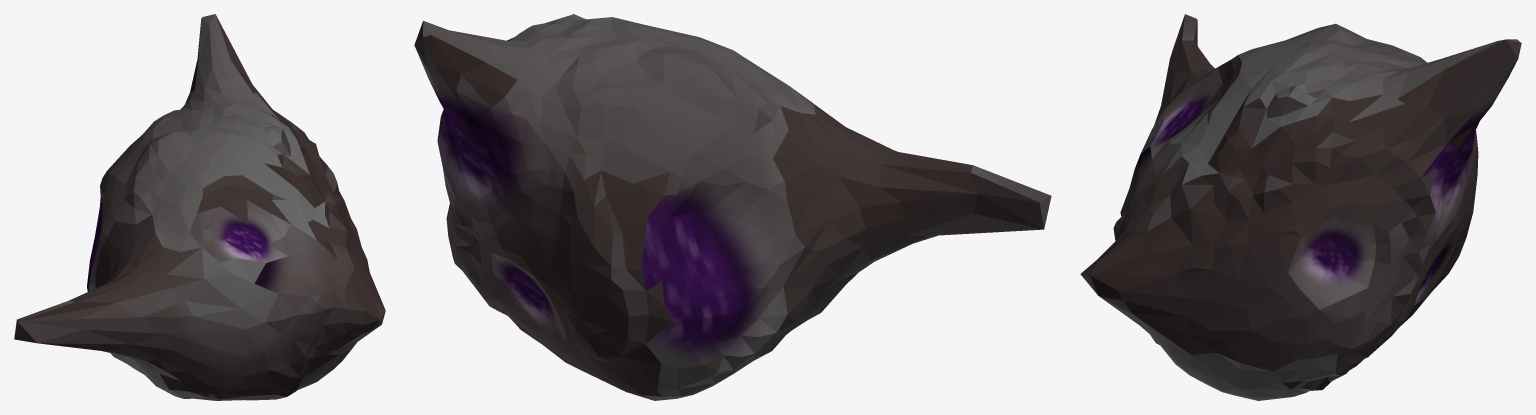
Rendered from Chavk_Home (1).fbx.
3 views of the same model, side by side, from view 1: azimuth 30°, elevation 25°; view 2: azimuth 150°, elevation 25°; view 3: azimuth 270°, elevation 25° (orthographic). The views are drawn at different scales.
Parts seen in each view (by area): view 1: Cube; view 2: Cube; view 3: Cube.
Part boxes in pixels (box(x1,y1,x2,y2)): Cube: box(14, 14, 385, 400); Cube: box(414, 14, 1051, 400); Cube: box(1080, 14, 1521, 400).
Bounding box in the file's own units: 3840 × 2903 × 3061.
